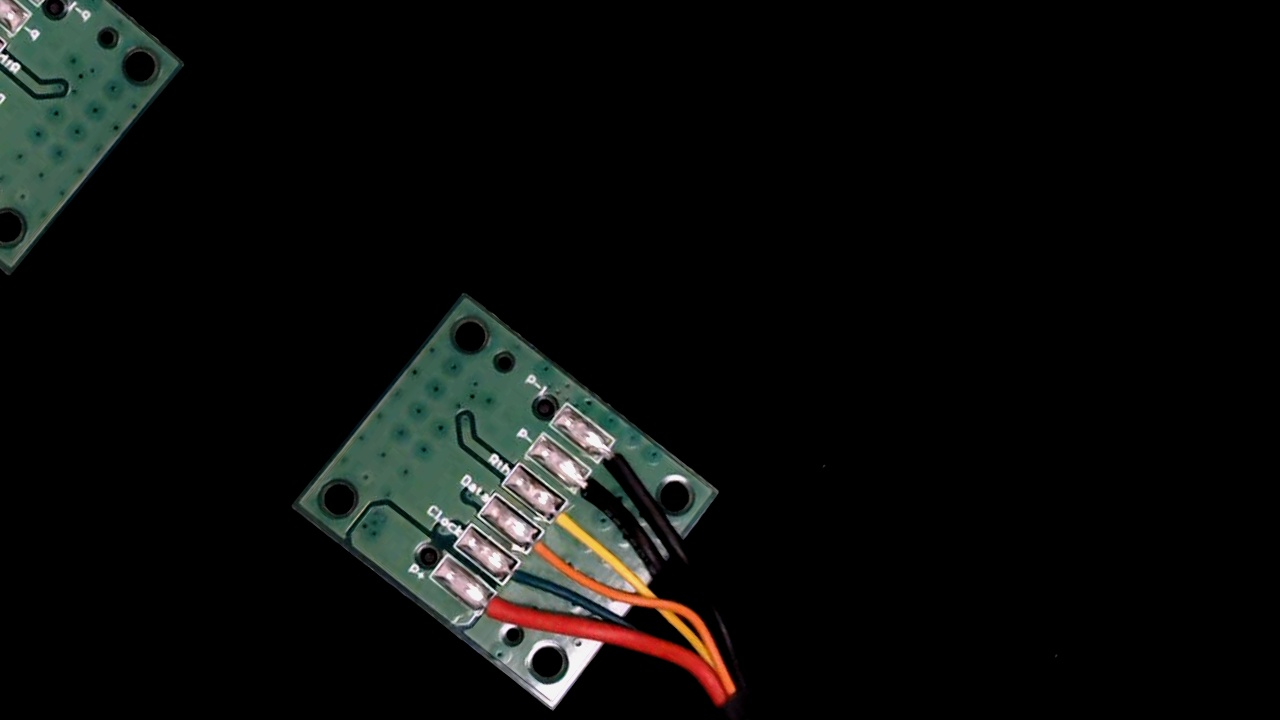Black: (557, 459, 635, 532)
Black1: (584, 430, 657, 498)
Green: (487, 548, 550, 608)
Orange: (511, 519, 580, 584)
Red: (460, 574, 536, 645)
Yellow: (534, 491, 612, 564)
